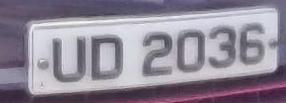0: (174, 23, 210, 78)
2: (137, 24, 178, 83)
3: (206, 22, 241, 75)
6: (237, 19, 269, 73)
D: (86, 30, 128, 86)
U: (46, 28, 93, 88)
